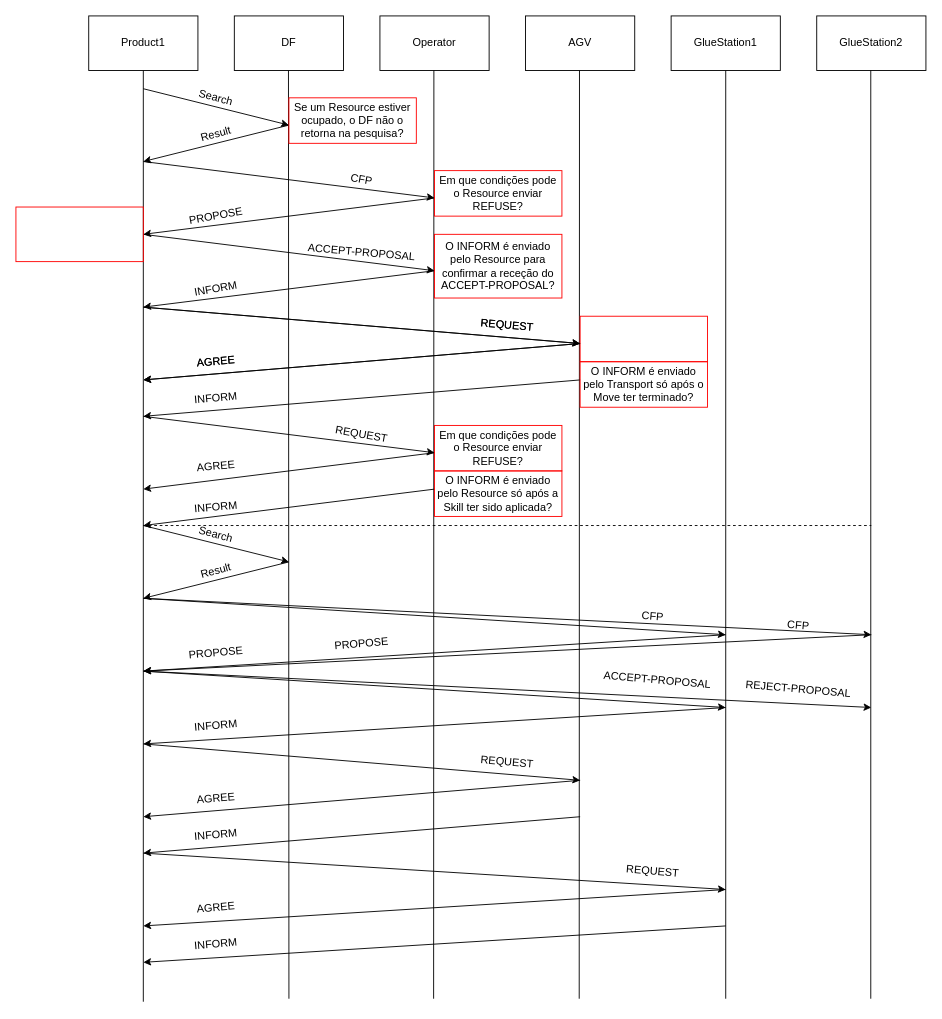
Some shapes in this 942 by 1019 pixel diagram are drawn without their labels. Here are the shapes that lost their labels. From the top down, the centre of each, then its label:
At pixel 79 234: "É suposto enviar REJECT-PROPOSAL para os Resources que ignoramos?".
At pixel 643 338: "Em que condições pode o Transport enviar REFUSE?".
